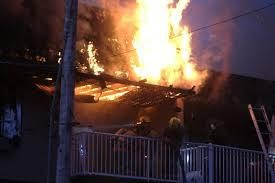fire: (127, 0, 198, 83), (78, 39, 104, 73)
